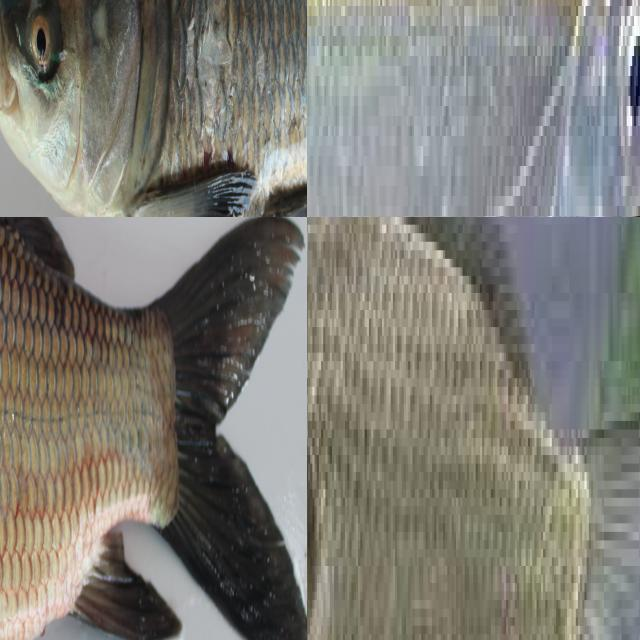fish: (307, 217, 640, 640), (0, 217, 307, 640), (307, 0, 640, 217), (0, 0, 307, 217)
